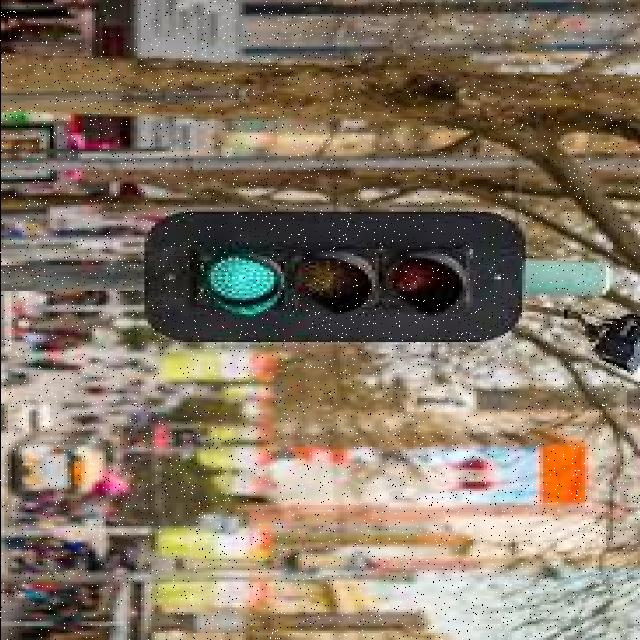green: (160, 218, 524, 336)
